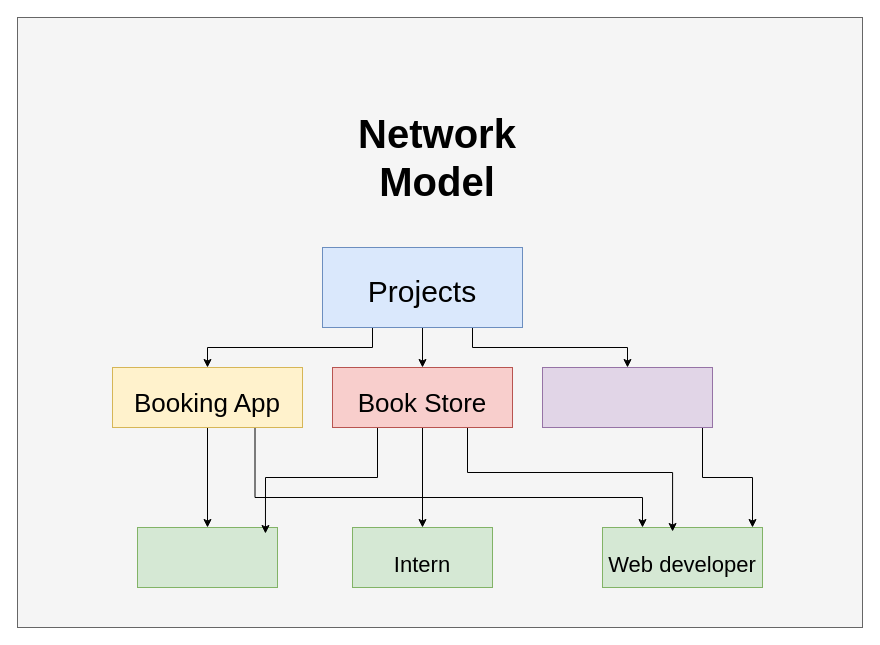
Image size: 880x645. Some labels were removed from this diagram. The centre of each missing label's shape, as x and y in pixels:
Maintenance: the point at 627,397
UX designer: the point at 207,557
